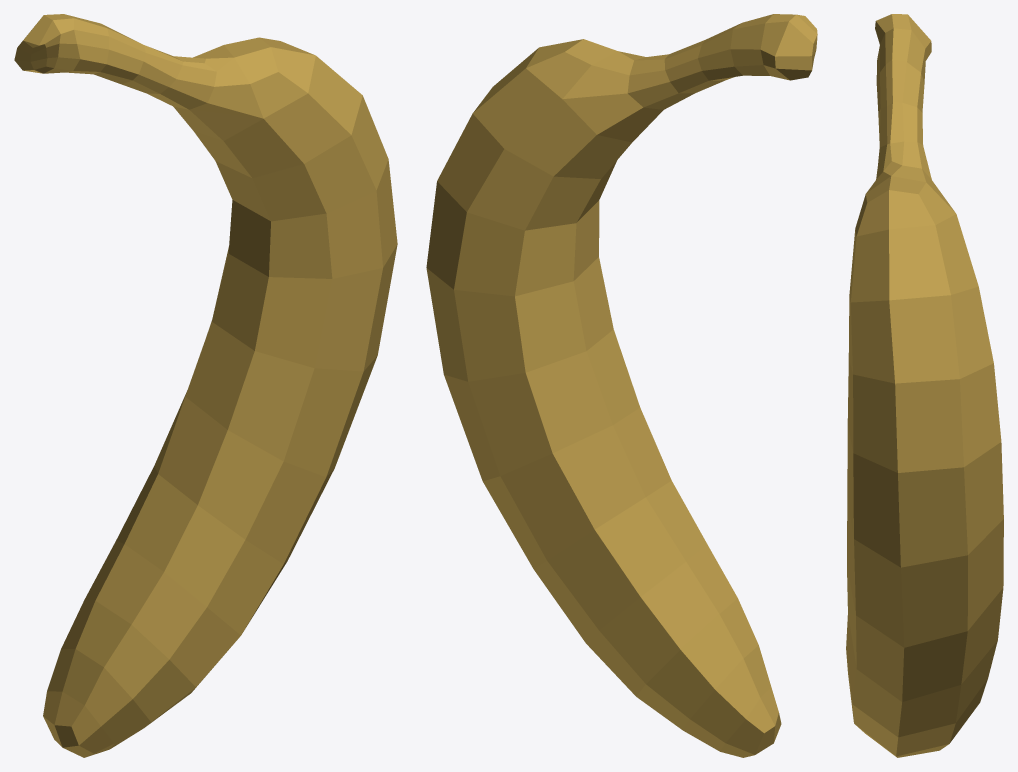
Rendered from Banana.glb.
The picture shows the model from 3 angles, left to right: view 1: azimuth 30°, elevation 25°; view 2: azimuth 150°, elevation 25°; view 3: azimuth 270°, elevation 25°; orthographic projection. The views are drawn at different scales.
Parts seen in each view (by area): view 1: Banana; view 2: Banana; view 3: Banana.
Part boxes in pixels (box(x1,y1,x2,y2)): Banana: box(14, 14, 397, 757); Banana: box(426, 14, 817, 757); Banana: box(846, 14, 1003, 757).
Bounding box in the file's own units: 0.1047 × 0.2 × 0.04.
